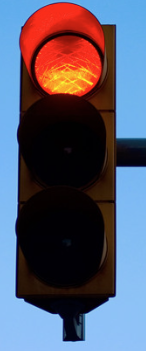red: (15, 3, 132, 313)
